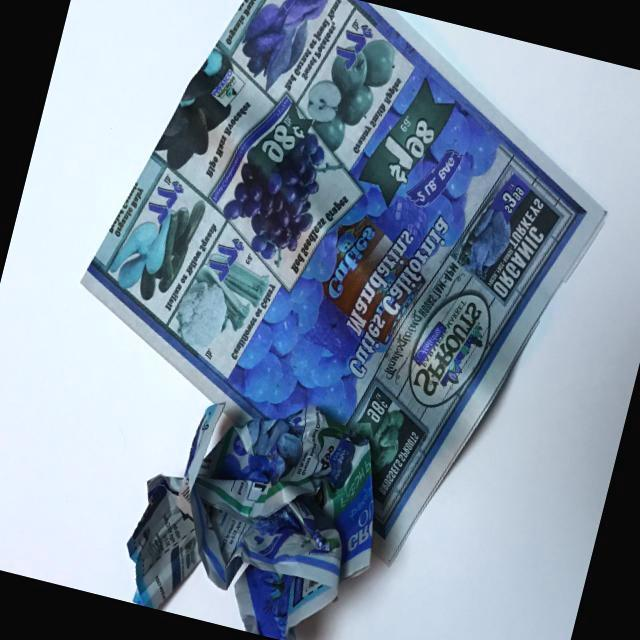paper: (36, 0, 640, 567), (108, 364, 404, 640)
